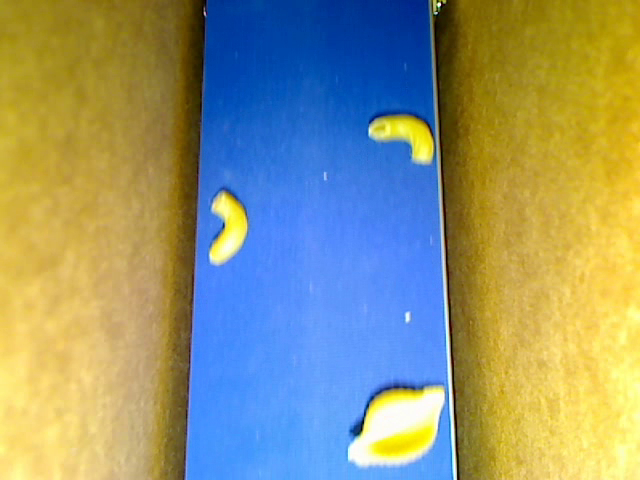elbow: (366, 114, 433, 165), (208, 188, 249, 266)
shell: (347, 384, 446, 468)
